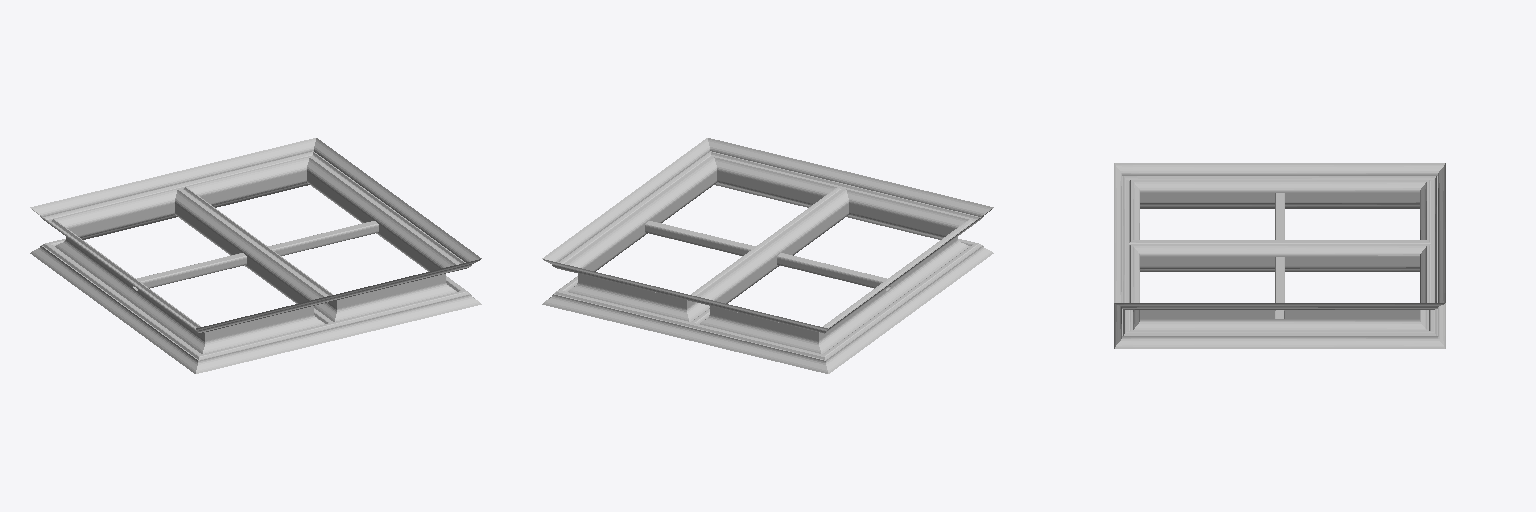
Rendered from window_frame.obj.
3 renders of one model, left to right at view 1: azimuth 30°, elevation 25°; view 2: azimuth 150°, elevation 25°; view 3: azimuth 270°, elevation 25°, orthographic.
Visible parts, largest first — view 1: Internal_Frame_Square; view 2: Internal_Frame_Square; view 3: Internal_Frame_Square.
Boxes of the visible parts, x1,y1,x2,y2 form: Internal_Frame_Square: [30, 138, 481, 373]; Internal_Frame_Square: [542, 138, 993, 373]; Internal_Frame_Square: [1114, 163, 1445, 348].
Size of the model in its own units: 1.31 by 0.2 by 1.31.